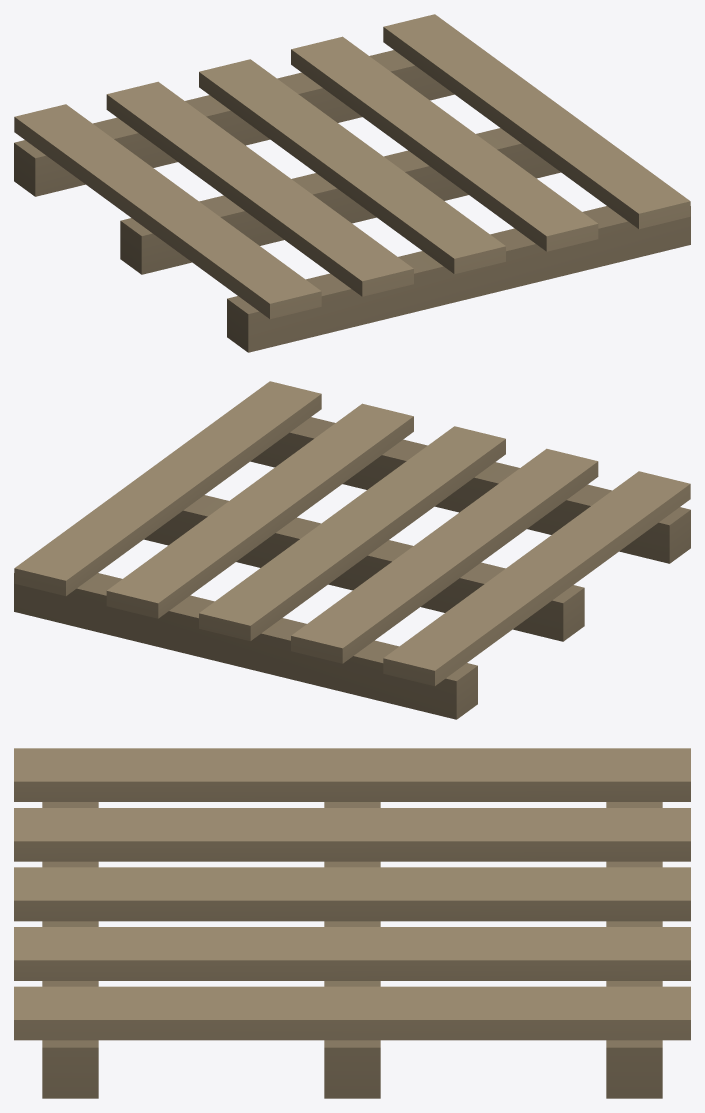
Rendered from pallet.glb.
The picture shows the model from 3 angles, top to bottom: view 1: azimuth 30°, elevation 25°; view 2: azimuth 150°, elevation 25°; view 3: azimuth 270°, elevation 25°; orthographic projection. The views are drawn at different scales.
Visible parts, largest first — view 1: pallet; view 2: pallet; view 3: pallet.
Boxes of the visible parts, box(x1,y1,x2,y2) form: pallet: box(14, 14, 690, 352); pallet: box(14, 381, 690, 719); pallet: box(14, 748, 690, 1098).
Size of the model in its own units: 1.2 by 0.14 by 1.2.
